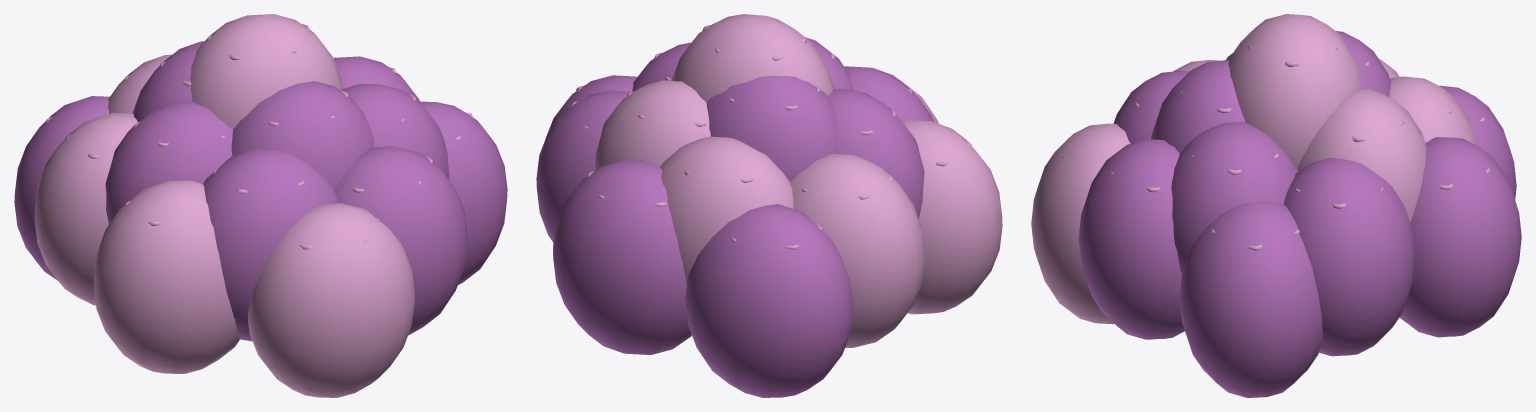
Rendered from Mound_Coral.glb.
3 renders of one model, left to right at view 1: azimuth 30°, elevation 25°; view 2: azimuth 150°, elevation 25°; view 3: azimuth 270°, elevation 25°, orthographic.
Visible parts, largest first — view 1: Mound_Coral; view 2: Mound_Coral; view 3: Mound_Coral.
Part boxes in pixels (bbox=[...]): Mound_Coral: bbox=[14, 14, 507, 397]; Mound_Coral: bbox=[536, 14, 1002, 397]; Mound_Coral: bbox=[1031, 14, 1521, 397].
Bounding box in the file's own units: 0.3581 × 0.2457 × 0.3552.
